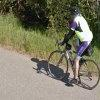Bicycle: (46, 33, 100, 95)
